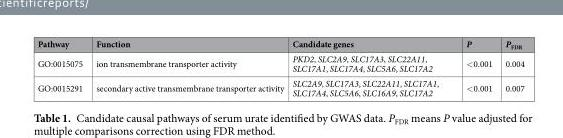table: (36, 37, 523, 98)
table column: (88, 37, 287, 98), (287, 37, 451, 98), (36, 37, 88, 98), (451, 37, 498, 98), (498, 37, 523, 98)
table column header: (36, 37, 523, 51)
table row: (36, 51, 523, 75), (36, 75, 523, 98), (36, 37, 523, 51)
